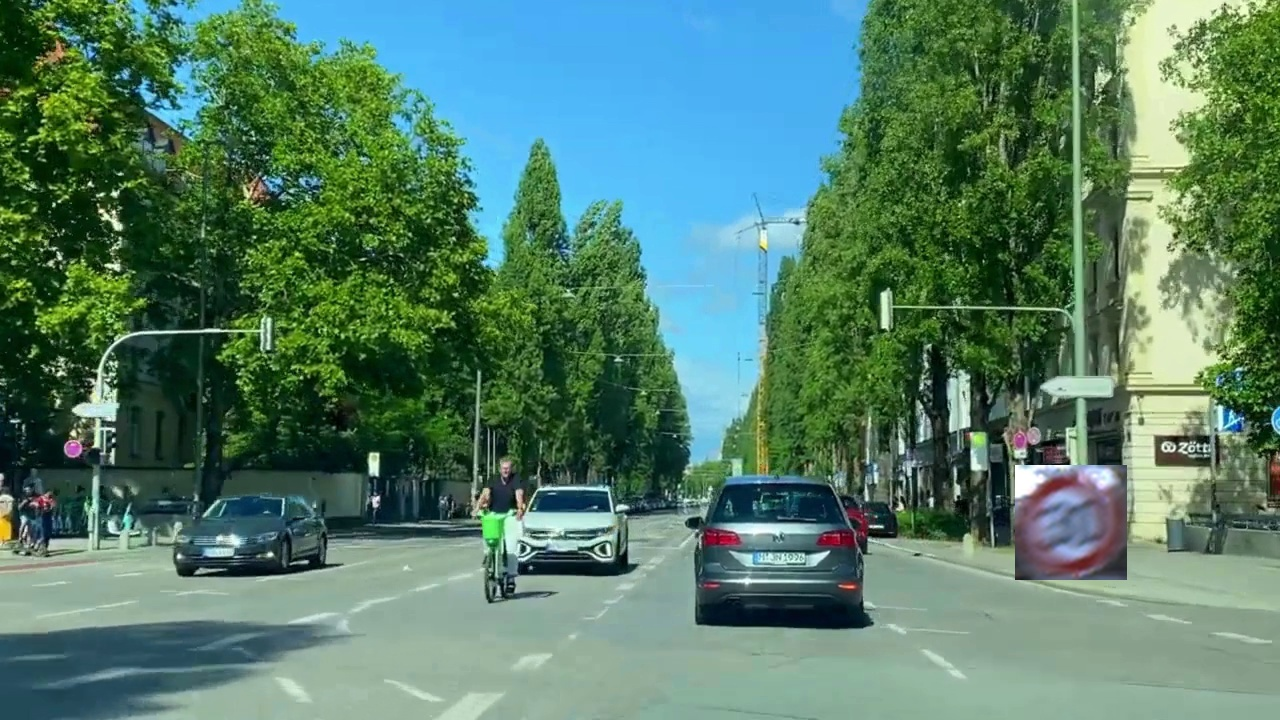Speed 30: (1015, 465, 1127, 580)
